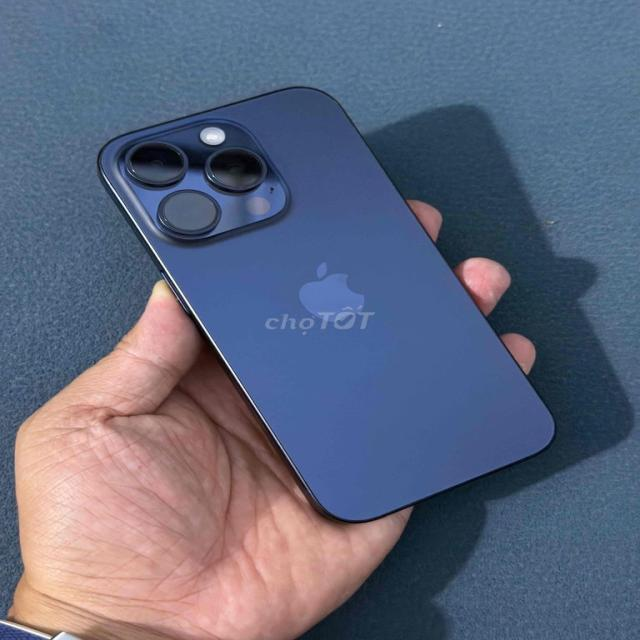gen_15: (92, 73, 568, 511)
